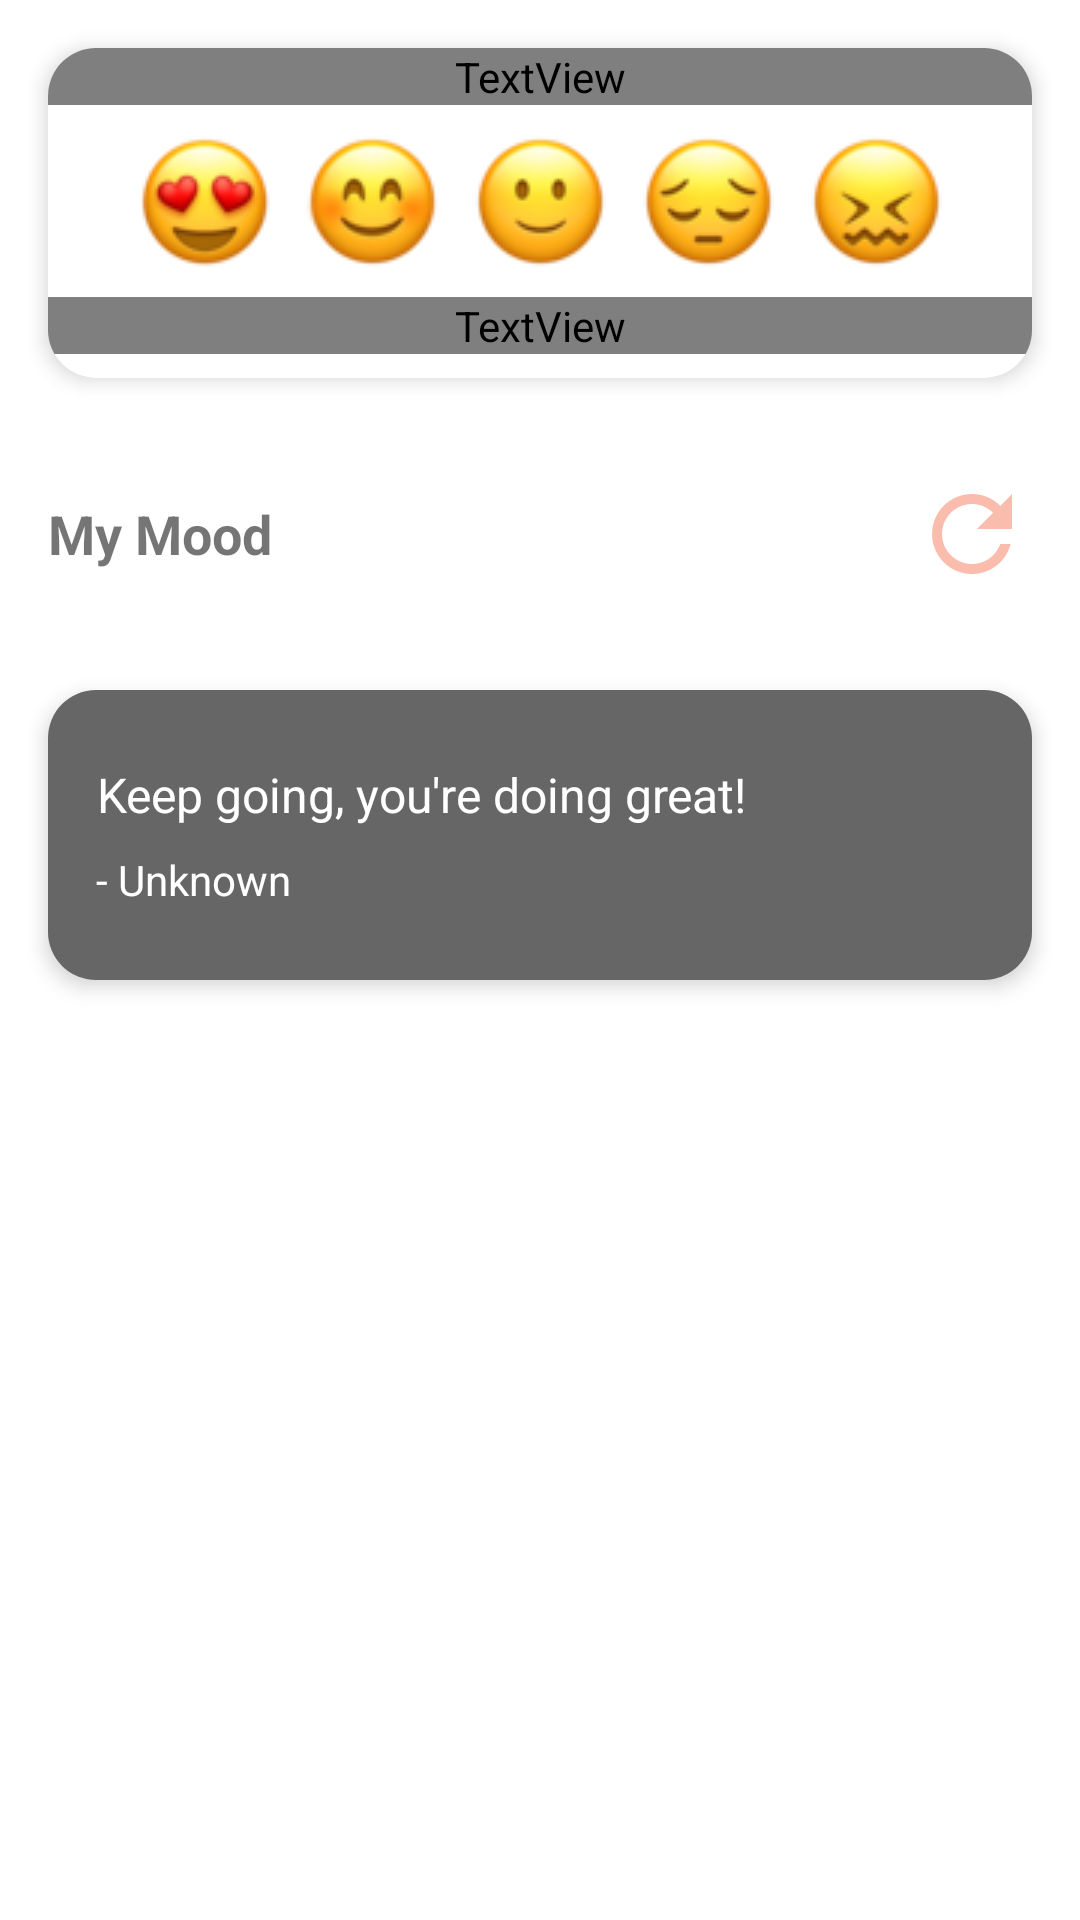

Where icons sit on this 1080×1920 app screen, as (x1, y1, x2, y2):
Mood 1: (142, 139, 269, 266)
Mood 2: (308, 139, 436, 265)
Mood 3: (478, 139, 604, 265)
Mood 4: (646, 139, 772, 265)
Mood 5: (814, 139, 940, 265)
Refresh: (932, 494, 1012, 574)
